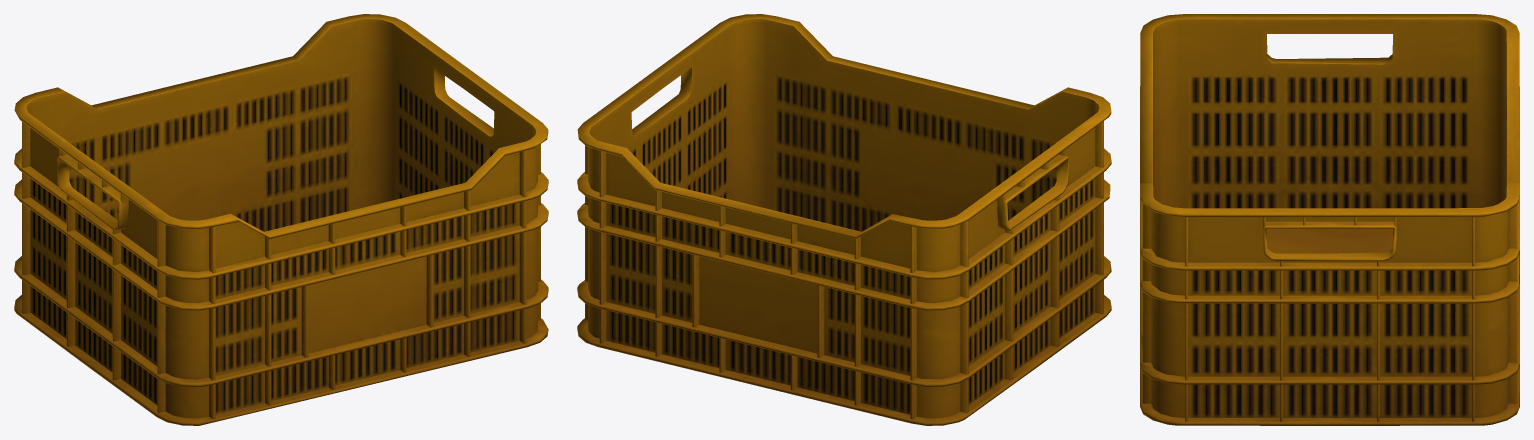
File: plastic_crate_02.glb
3 renders of one model, left to right at view 1: azimuth 30°, elevation 25°; view 2: azimuth 150°, elevation 25°; view 3: azimuth 270°, elevation 25°, orthographic. The views are drawn at different scales.
Visible parts, largest first — view 1: plastic_crate_02; view 2: plastic_crate_02; view 3: plastic_crate_02.
Part boxes in pixels (left/top/right/bottom): plastic_crate_02: left=14, top=14, right=548, bottom=425; plastic_crate_02: left=577, top=14, right=1111, bottom=425; plastic_crate_02: left=1140, top=14, right=1519, bottom=425.
Size of the model in its own units: 0.5055 by 0.2541 by 0.4055.
1 material, 1 textured.
